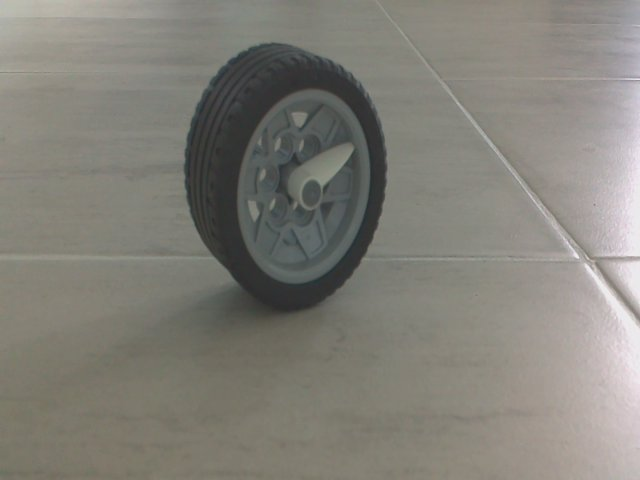Rad+Grau_lang+Kappe: (179, 33, 401, 317)
